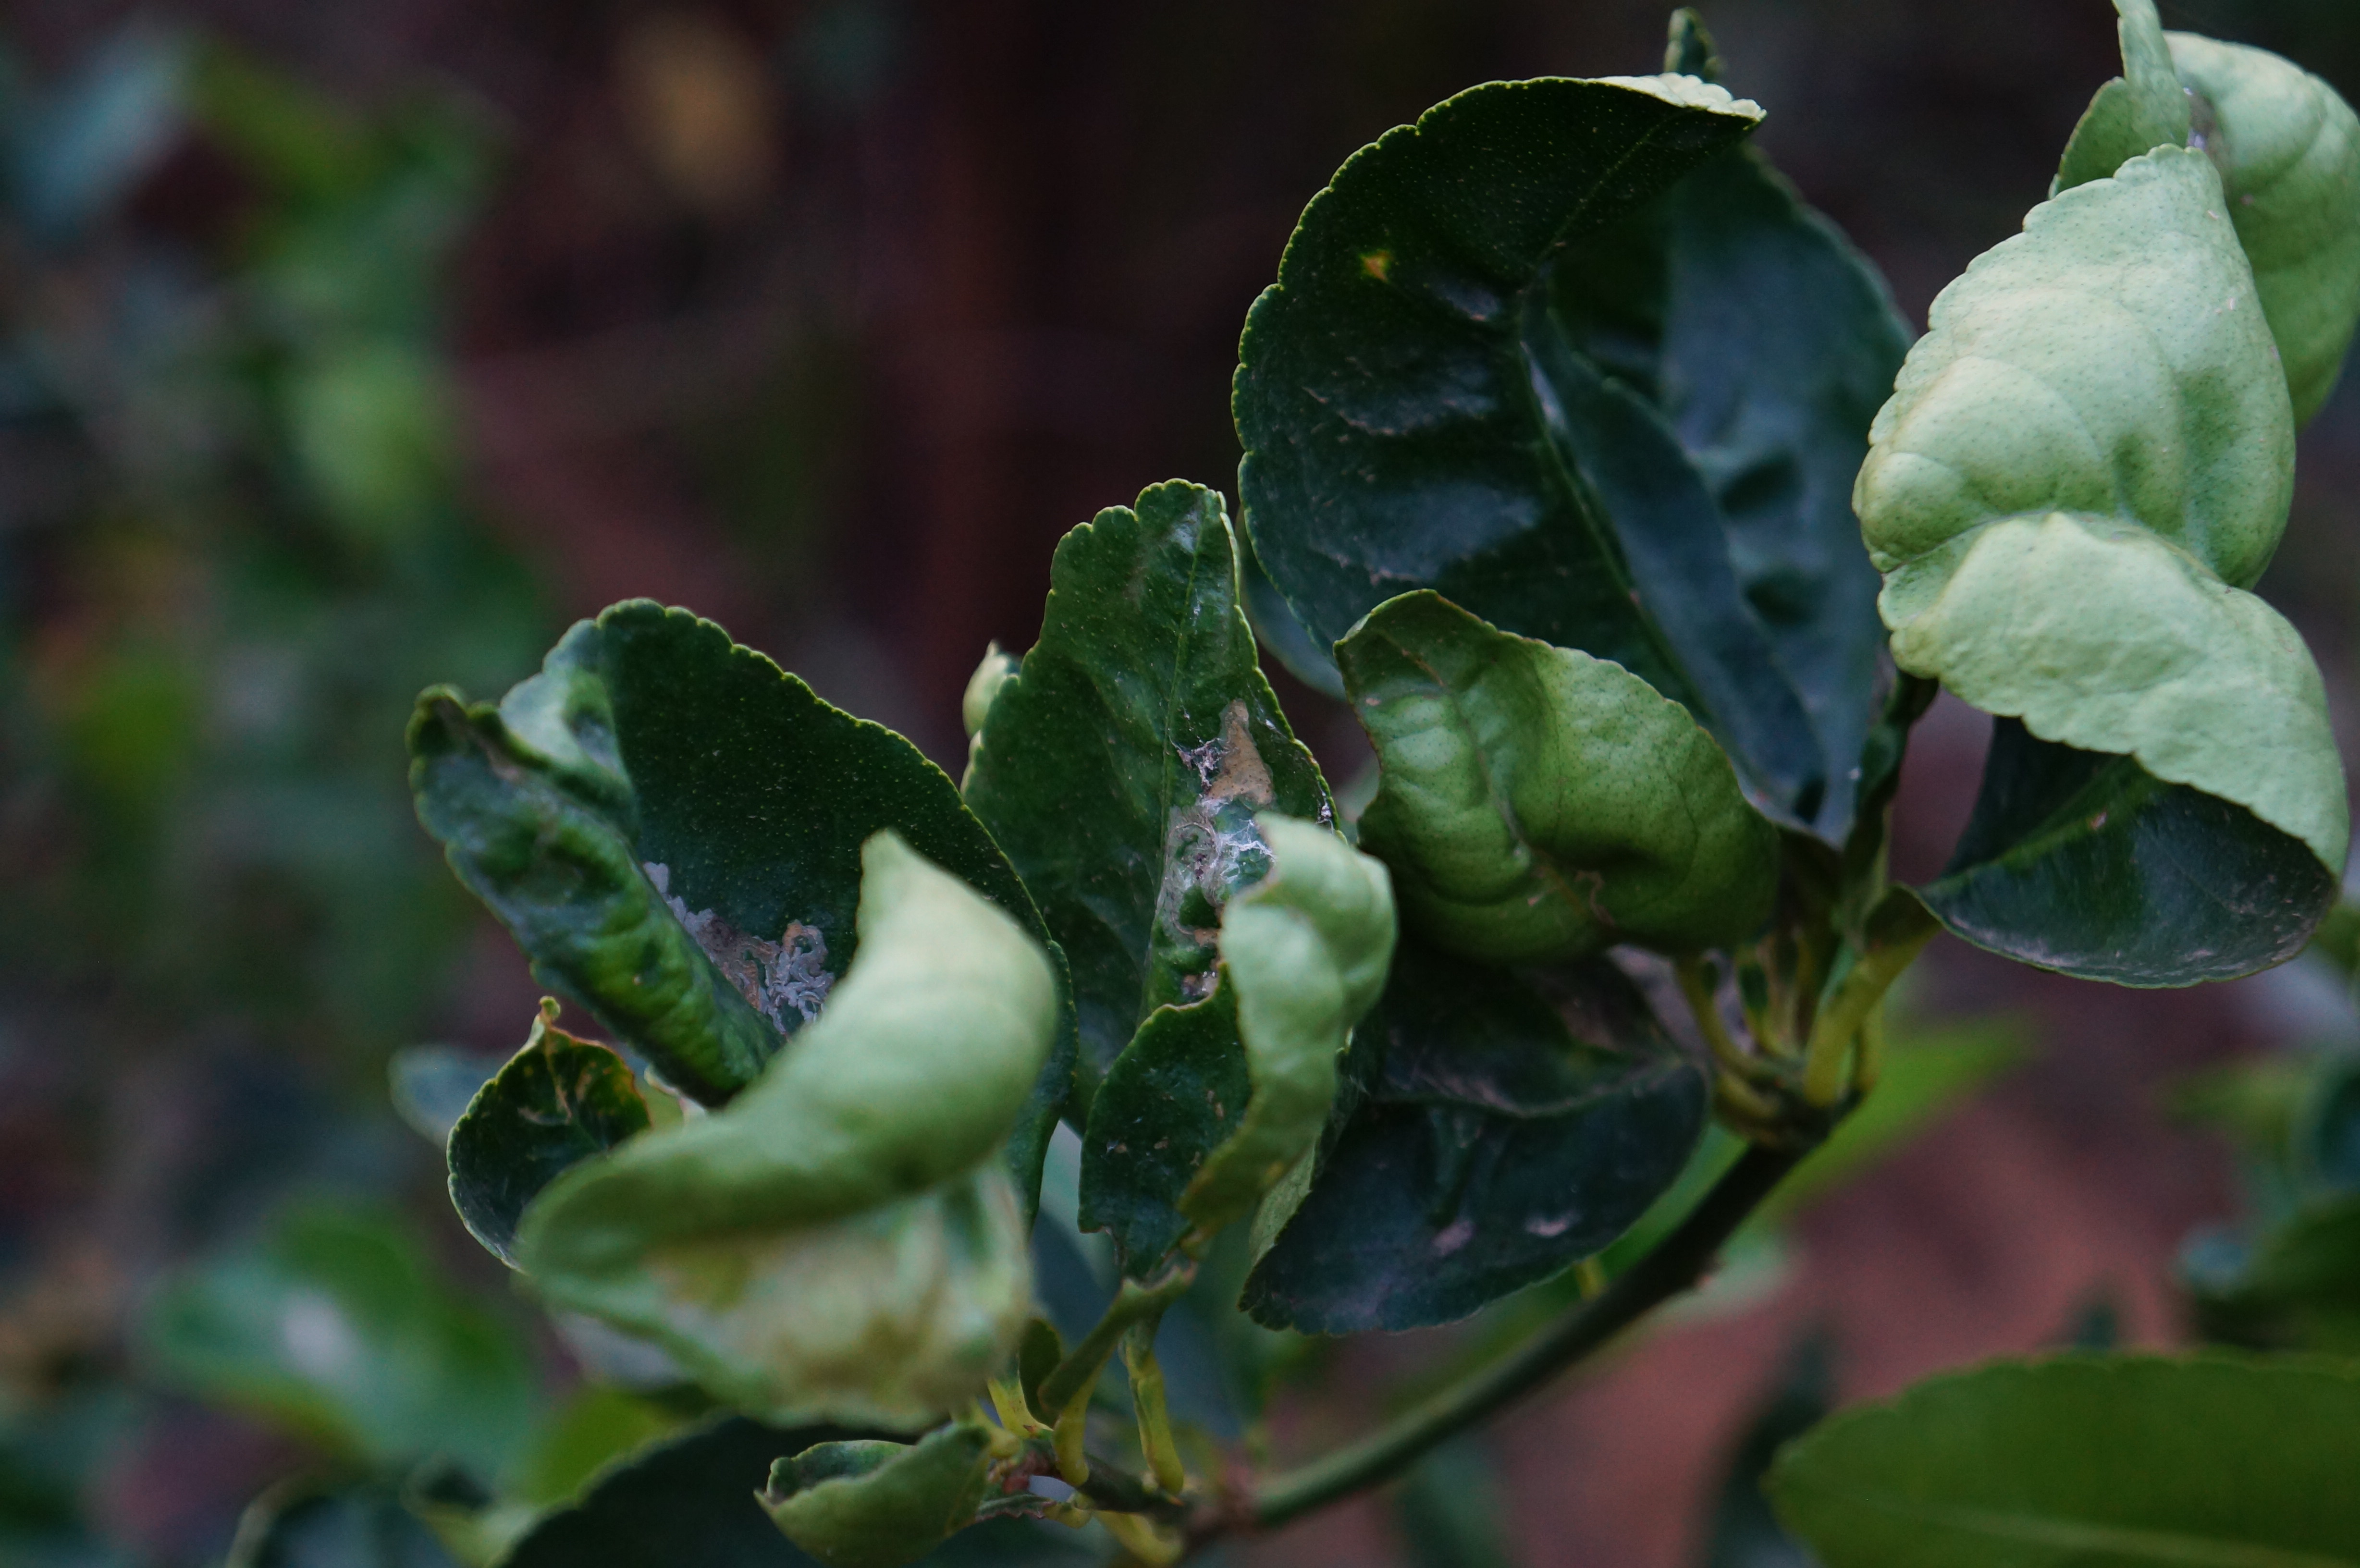damage: (1144, 693, 1289, 1043), (626, 845, 859, 1055)
